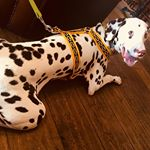puppy: (75, 10, 150, 101)
